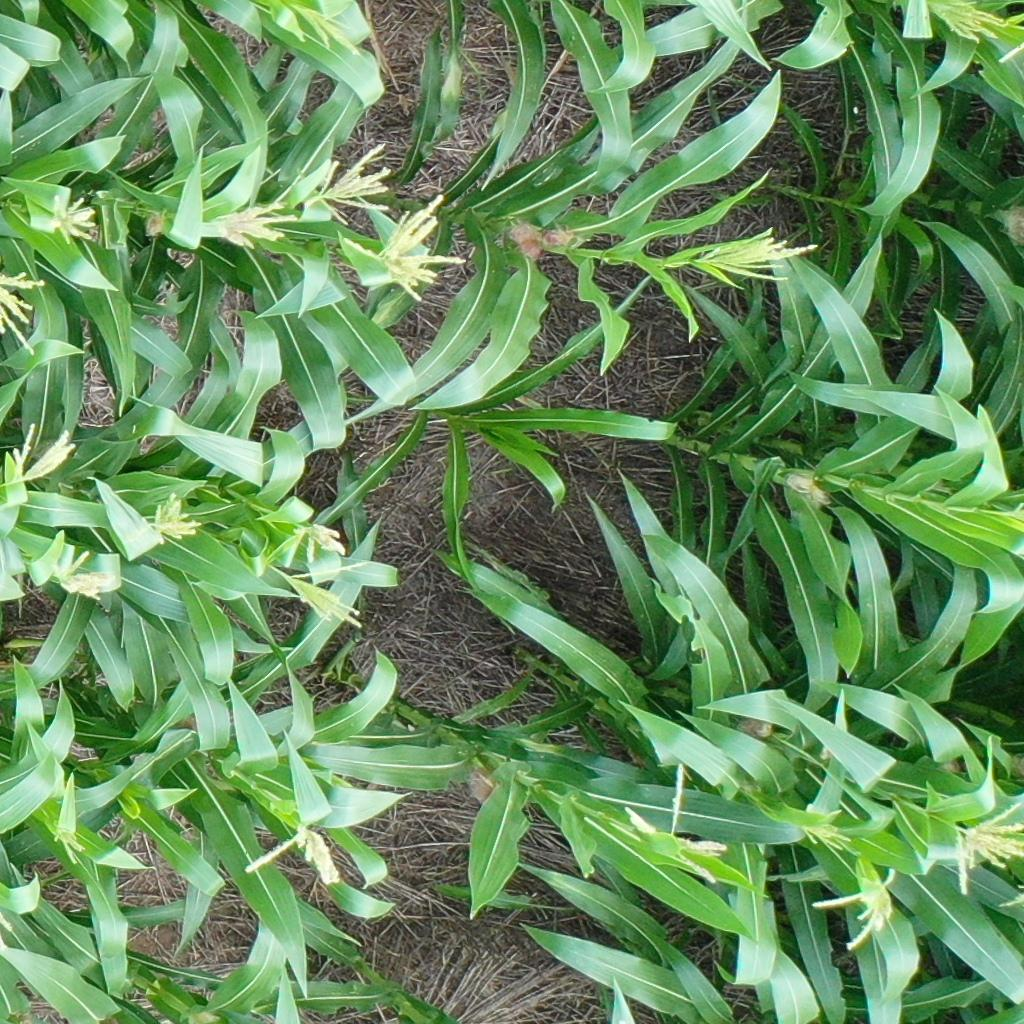Tassel: (619, 759, 725, 886), (377, 195, 469, 300), (240, 816, 348, 894), (702, 224, 826, 287), (809, 867, 901, 951), (951, 798, 1024, 897), (318, 143, 393, 223), (200, 199, 300, 250), (1, 422, 75, 487), (286, 1, 365, 58), (285, 578, 366, 632), (926, 1, 1021, 44), (1, 268, 46, 356), (281, 521, 352, 572), (48, 186, 104, 249), (793, 797, 856, 853), (56, 550, 117, 604), (150, 490, 203, 545), (52, 831, 93, 866), (1001, 499, 1024, 524)
